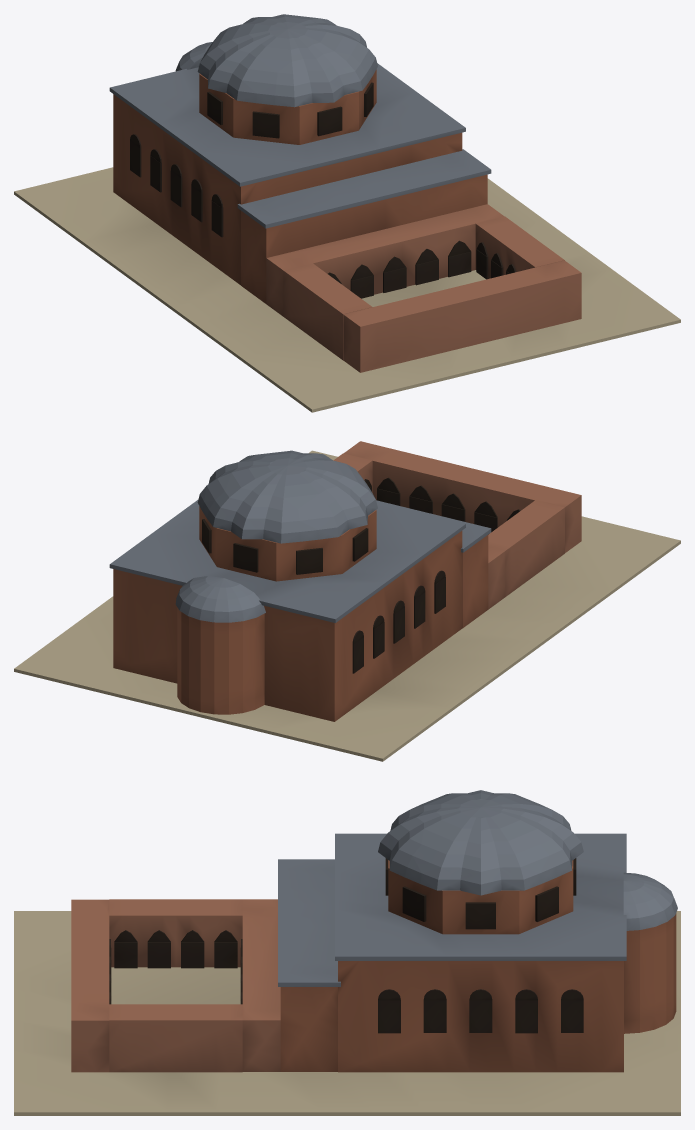
Rendered from little-hagia-sophia.glb.
3 renders of one model, top to bottom at view 1: azimuth 30°, elevation 25°; view 2: azimuth 150°, elevation 25°; view 3: azimuth 270°, elevation 25°, orthographic. The views are drawn at different scales.
Parts seen in each view (by area): view 1: p0_church, p2_atrium, p1_dome; view 2: p0_church, p1_dome, p2_atrium; view 3: p0_church, p2_atrium, p1_dome.
Boxes of the visible parts, x1=… form: p0_church: x1=14, y1=42, x2=680, y2=412; p2_atrium: x1=266, y1=204, x2=581, y2=372; p1_dome: x1=197, y1=14, x2=377, y2=144; p0_church: x1=14, y1=450, x2=680, y2=761; p1_dome: x1=197, y1=450, x2=377, y2=581; p2_atrium: x1=333, y1=441, x2=581, y2=609; p0_church: x1=14, y1=833, x2=680, y2=1115; p2_atrium: x1=71, y1=899, x2=280, y2=1072; p1_dome: x1=378, y1=790, x2=583, y2=934.
Bounding box in the file's own units: 50 × 24.05 × 70.
